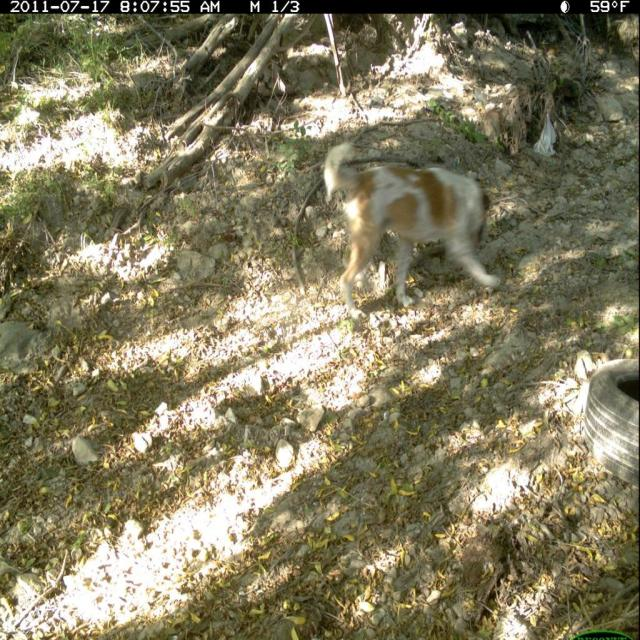dog: (323, 138, 510, 330)
